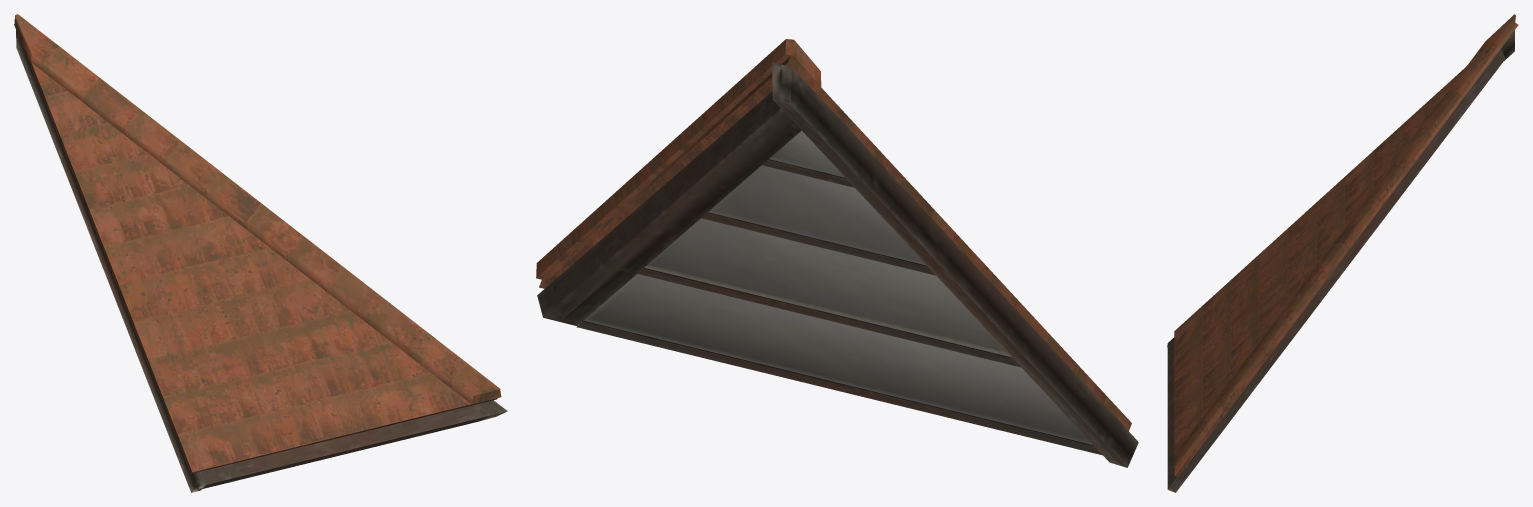
File: roof.brick.corner.90.convex.r.glb
3 views of the same model, side by side, from view 1: azimuth 30°, elevation 25°; view 2: azimuth 150°, elevation 25°; view 3: azimuth 270°, elevation 25° (orthographic). The views are drawn at different scales.
Visible parts, largest first — view 1: roof.corner.90.convex.R_LOD0; view 2: roof.corner.90.convex.R_LOD0; view 3: roof.corner.90.convex.R_LOD0.
Boxes of the visible parts, x1,y1,x2,y2 form: roof.corner.90.convex.R_LOD0: [14, 14, 507, 492]; roof.corner.90.convex.R_LOD0: [536, 39, 1138, 467]; roof.corner.90.convex.R_LOD0: [1167, 14, 1518, 492].
Bounding box in the file's own units: 3.07 × 3.28 × 3.1.
2 materials, 2 textured.
